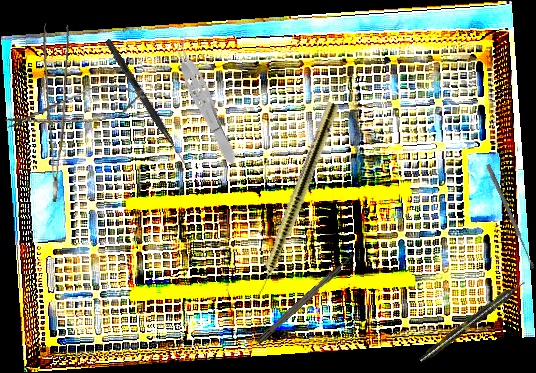Handpiece: (247, 100, 341, 308), (416, 277, 529, 366)
Hook Surgical: (103, 38, 192, 170), (255, 251, 358, 345)
Micro Scissor: (2, 76, 150, 142)
Surgical Spoon: (485, 163, 536, 270)
Tissue Forceps: (165, 31, 244, 168), (23, 22, 78, 203)
